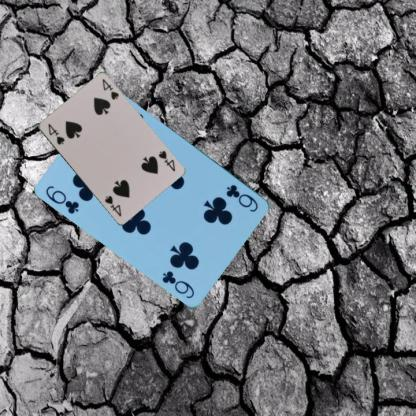4s: (45, 121, 66, 146), (156, 148, 177, 173)
6c: (43, 183, 81, 216), (224, 181, 260, 214)
